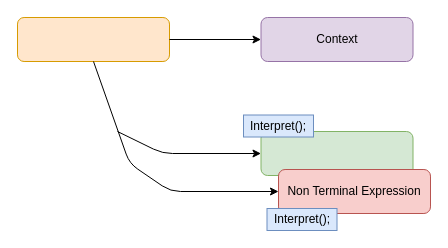
This 448x248 diagram has some shape labels left out. Each missing label, with the centre of its shape:
<< CLIENT >>: the point at 93,39
Terminal Expression: the point at 336,153
